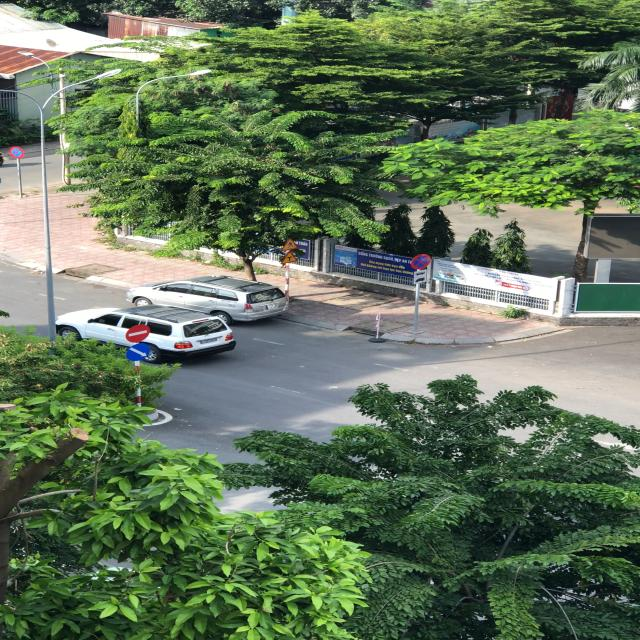Bien bao cam di nguoc chieu: (122, 322, 152, 343)
Bien bao duong giao nhau: (276, 250, 303, 265)
Bien bao duong nguoi di bo cat ngang: (278, 237, 303, 251)
Bien bao huong phai di vong chuong ngai vat: (124, 342, 152, 362)
